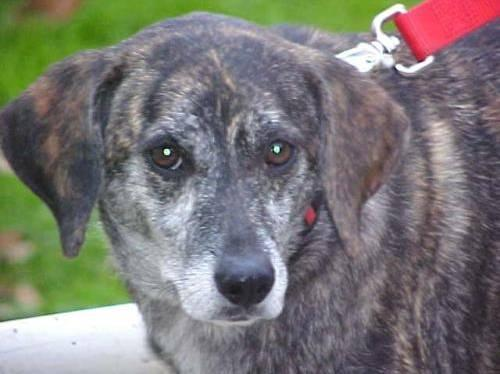dog: (0, 12, 499, 373)
